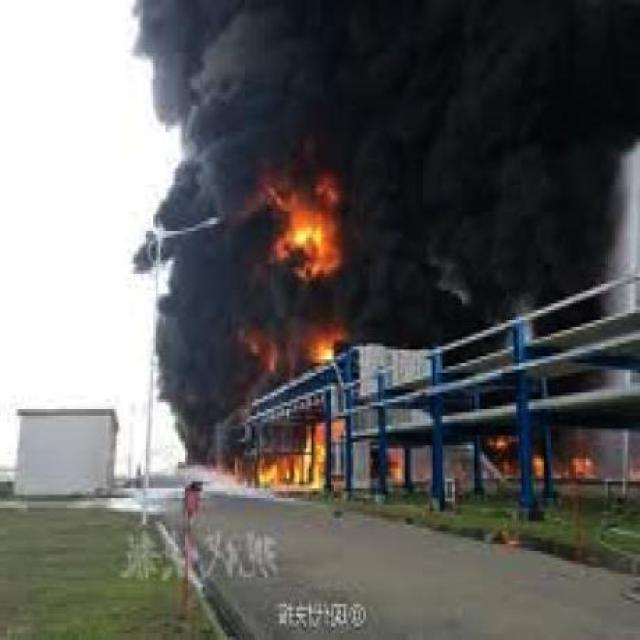Fire: (259, 148, 349, 300), (234, 422, 353, 498), (245, 318, 364, 376), (486, 432, 604, 484), (376, 450, 416, 483)
Smoke: (350, 3, 640, 343), (128, 8, 580, 168), (353, 174, 640, 337), (153, 176, 256, 452)
